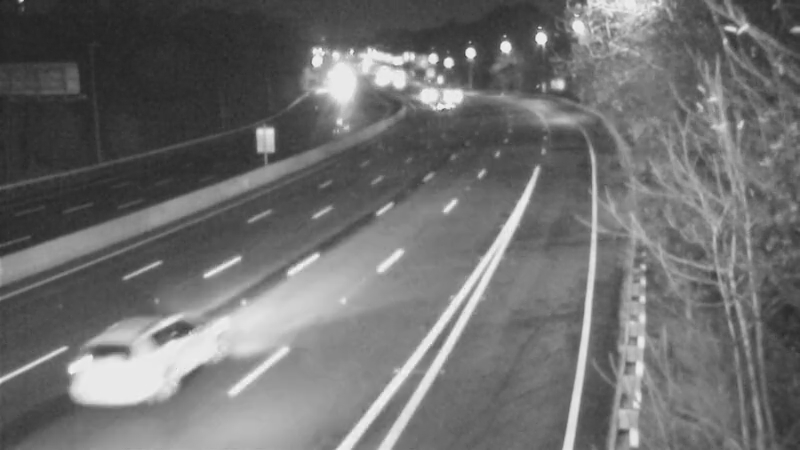vehicle: (76, 317, 186, 427), (431, 67, 481, 117), (418, 80, 468, 130)
